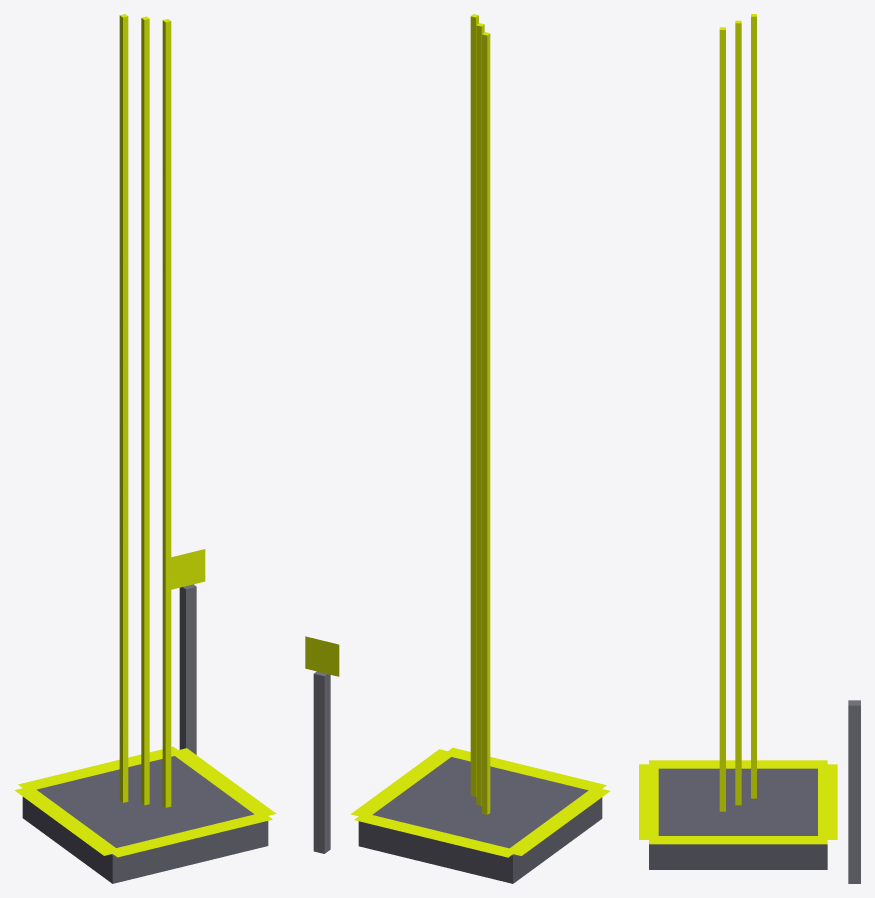
Rendered from uplink_pads.glb.
3 renders of one model, left to right at view 1: azimuth 30°, elevation 25°; view 2: azimuth 150°, elevation 25°; view 3: azimuth 270°, elevation 25°, orthographic.
Parts seen in each view (by area): view 1: uplink_pad, uplink_riser; view 2: uplink_pad, uplink_riser; view 3: uplink_pad, uplink_riser.
Part boxes in pixels (bbox=[...]): uplink_pad: bbox=[14, 549, 276, 883]; uplink_riser: bbox=[119, 14, 171, 807]; uplink_pad: bbox=[305, 636, 609, 883]; uplink_riser: bbox=[470, 14, 490, 814]; uplink_pad: bbox=[639, 700, 860, 883]; uplink_riser: bbox=[719, 14, 756, 811].
Size of the model in its own units: 2.63 by 10 by 2.48.
